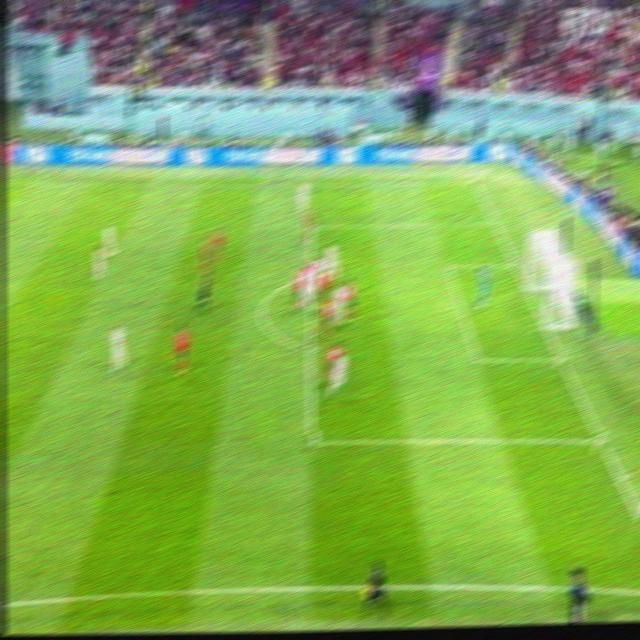bigarea_bottom_inner: (302, 432, 322, 452)
bigarea_bottom_outter: (592, 432, 607, 450)
bigarea_top_inner: (306, 223, 317, 232)
bigarea_top_outter: (490, 218, 499, 226)
bottom_arc_area_intersection: (302, 342, 319, 360)
corner: (468, 178, 479, 186)
smallarea_bottom_inner: (467, 348, 483, 366)
smallarea_bottom_outter: (552, 350, 568, 365)
smallarea_top_inner: (440, 259, 453, 270)
smallarea_top_outter: (508, 257, 520, 270)
